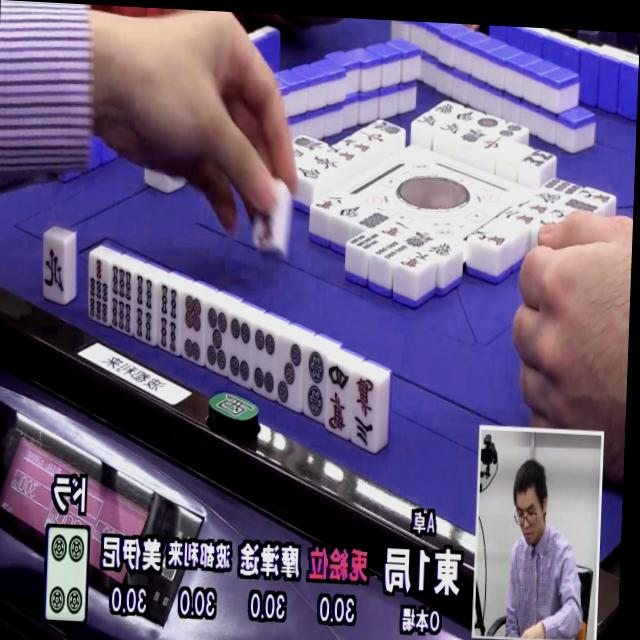2D: (299, 349, 329, 424)
3C: (346, 373, 381, 451)
3D: (271, 338, 306, 412)
4B: (152, 282, 184, 356), (129, 274, 159, 348)
4C: (322, 359, 354, 438)
4D: (41, 526, 89, 623), (249, 326, 280, 399), (225, 316, 255, 388)
5D: (200, 304, 231, 376)
6B: (106, 264, 135, 336)
6D: (175, 292, 207, 366)
7B: (86, 256, 112, 326)
NW: (41, 239, 71, 304)
